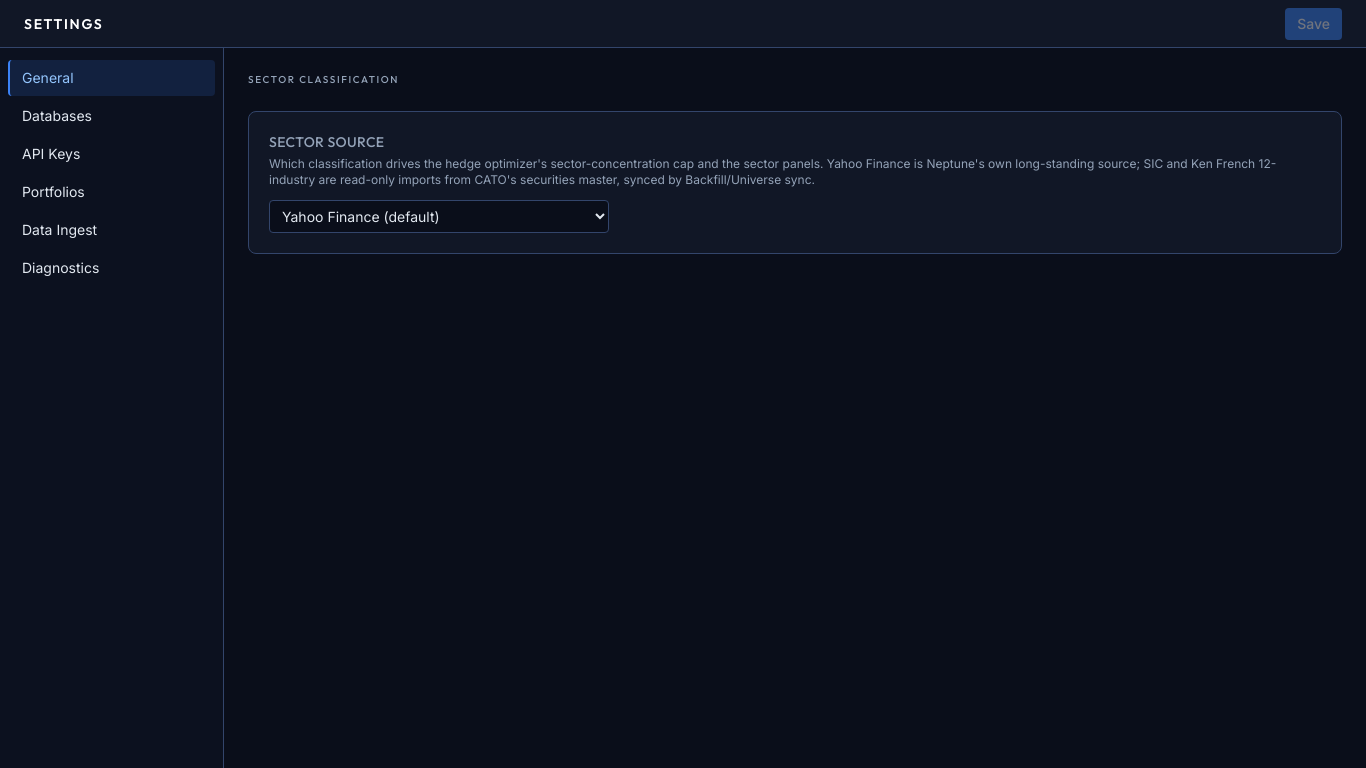
it: Settings › disables Test connection on an edited row, since it tests the stored URL
This screenshot has width=1366, height=768.
Click the button "Databases" at (112, 116), box [8, 98, 215, 134]
(page scrolled)
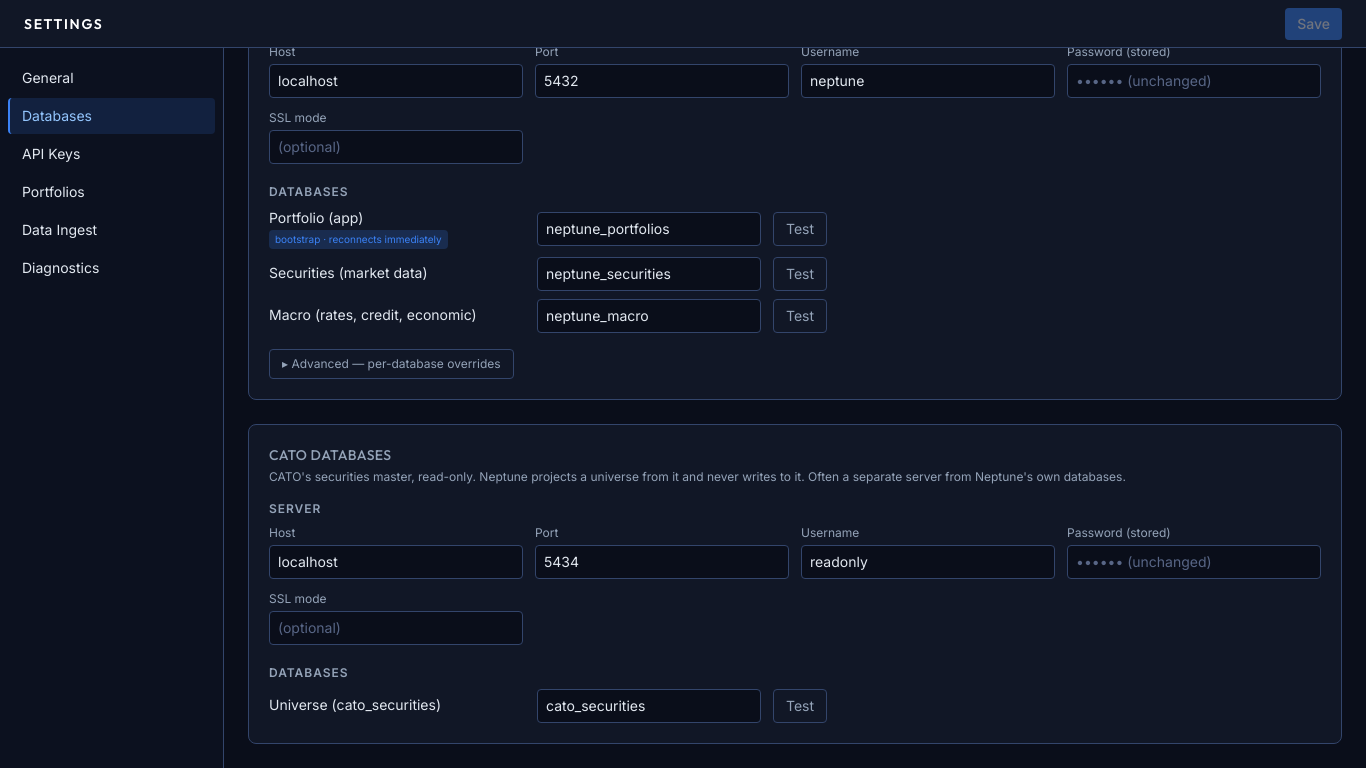
Expected: the heading "CATO databases" is shown, [269, 446, 391, 464]
Expected: the button with aria-label "universe-test" is enabled, [773, 689, 827, 723]
Replace the text in the field named "cato-shared-host" with "cato-prod.internal" at (396, 562), box [269, 545, 523, 579]
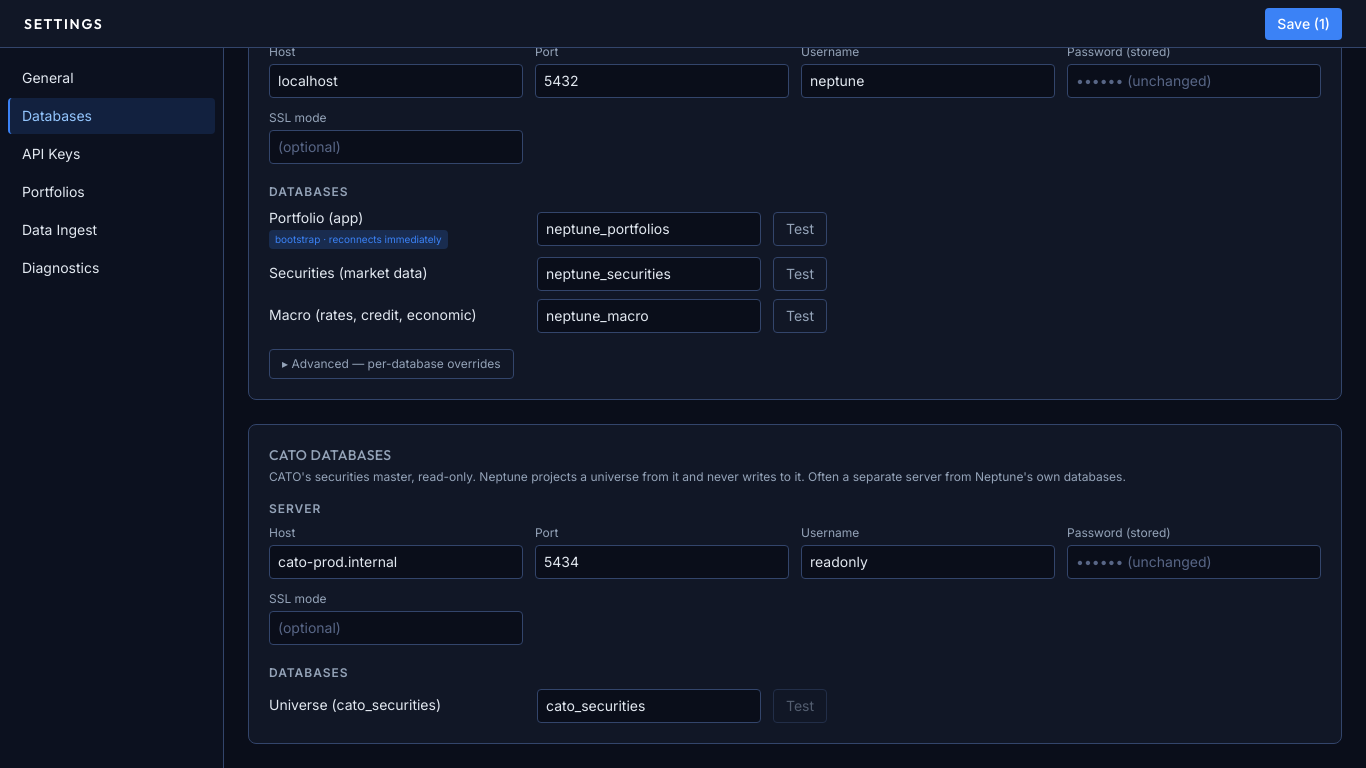
Expected: the button with aria-label "universe-test" is disabled, [773, 689, 827, 723]
